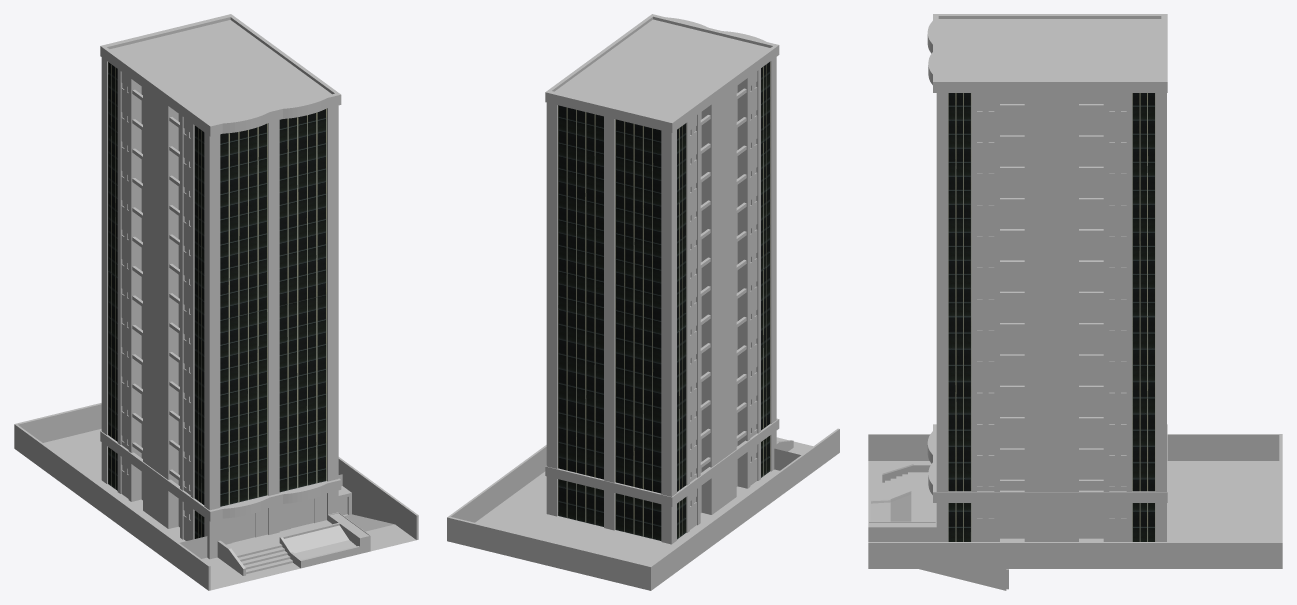
3 views of the same model, side by side, from view 1: azimuth 30°, elevation 25°; view 2: azimuth 150°, elevation 25°; view 3: azimuth 270°, elevation 25° (orthographic). The views are drawn at different scales.
Parts seen in each view (by area): view 1: BC-018; view 2: BC-018; view 3: BC-018.
Part boxes in pixels (x1,y1,x2,y2): BC-018: [14, 14, 418, 590]; BC-018: [447, 14, 839, 590]; BC-018: [868, 14, 1282, 590].
Size of what is drawn, in the model's own units: 22.43 by 46.54 by 36.
